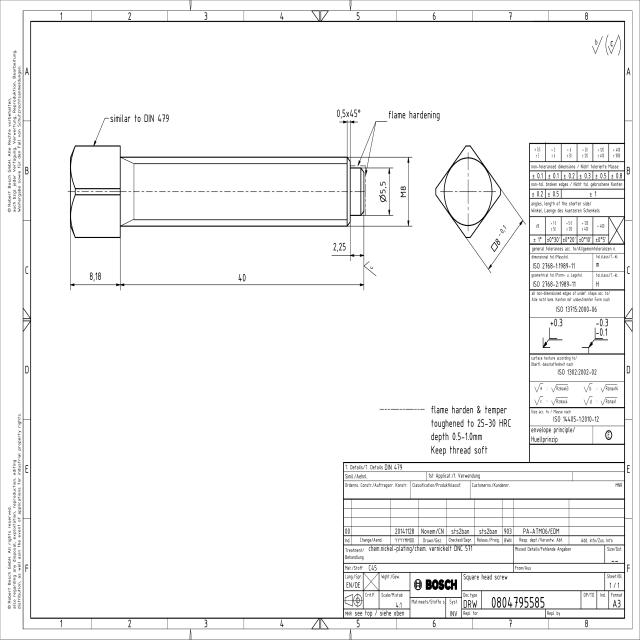dimension: (489, 223, 508, 254), (336, 108, 362, 120), (378, 180, 387, 203), (88, 270, 103, 282), (332, 242, 346, 252), (399, 184, 408, 199), (237, 271, 248, 283)
